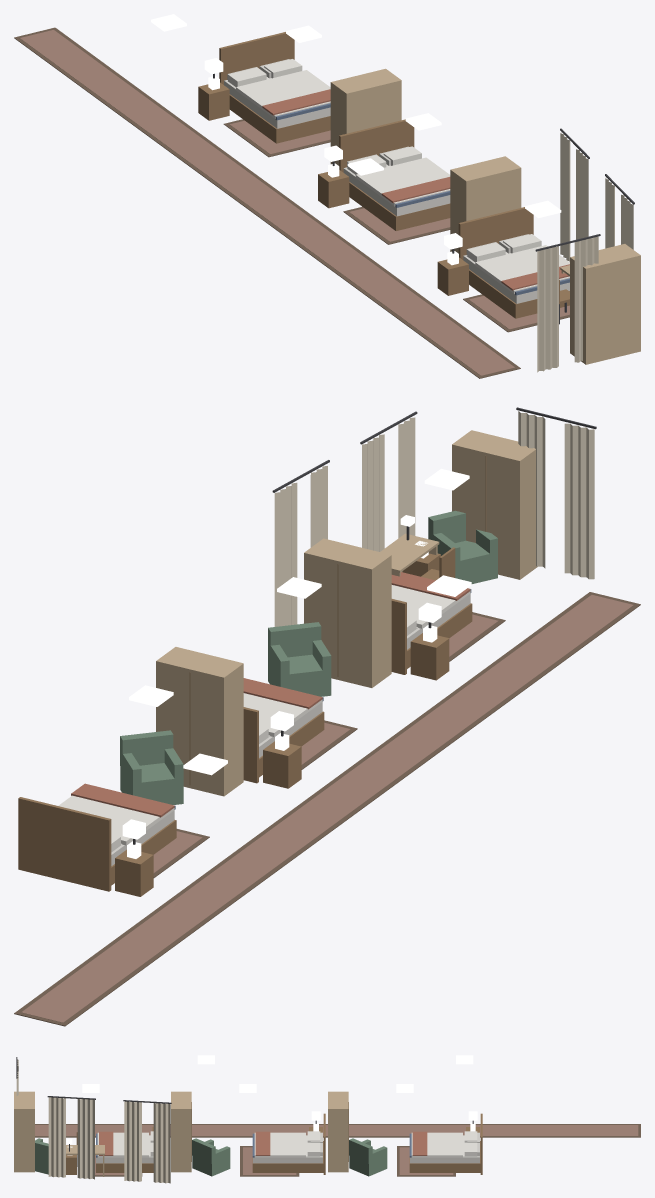
File: fine-s2.glb
3 renders of one model, top to bottom at view 1: azimuth 30°, elevation 25°; view 2: azimuth 150°, elevation 25°; view 3: azimuth 270°, elevation 25°, orthographic. The views are drawn at different scales.
Parts seen in each view (by area): view 1: soft-s2, dresser.005, bed-frame.004, bed-frame.003, bed-frame.005, dresser.003, dresser.004, nightstand.005, nightstand.003, nightstand.004; view 2: soft-s2, dresser.004, dresser.003, dresser.005, bed-frame.003, lounge-chair.004, lounge-chair.003, lounge-chair.005, bed-frame.004, bed-frame.005, nightstand.005, nightstand.003 (+2 smaller); view 3: soft-s2, dresser.003, dresser.004, dresser.005, bed-frame.003, bed-frame.004, lounge-chair.003, lounge-chair.004, bed-frame.005, lounge-chair.005, writing-desk.001, side-table.001.
Part boxes in pixels (x1,y1,x2,y2): soft-s2: (14, 27, 634, 378); dresser.005: (570, 244, 640, 364); bed-frame.004: (339, 119, 450, 230); bed-frame.003: (219, 32, 330, 143); bed-frame.005: (458, 207, 569, 318); dresser.003: (330, 68, 401, 165); dresser.004: (450, 156, 521, 253); nightstand.005: (437, 251, 468, 295); nightstand.003: (198, 76, 229, 120); nightstand.004: (318, 163, 349, 208); soft-s2: (14, 407, 640, 1026); dresser.004: (304, 538, 391, 687); dresser.003: (156, 647, 243, 796); dresser.005: (452, 430, 537, 579); bed-frame.003: (18, 797, 176, 891); lounge-chair.004: (268, 622, 331, 696); lounge-chair.003: (120, 730, 183, 804); lounge-chair.005: (428, 510, 497, 583); bed-frame.004: (243, 697, 324, 783); bed-frame.005: (391, 589, 472, 674); nightstand.005: (410, 625, 449, 680); nightstand.003: (115, 841, 153, 896); soft-s2: (16, 1057, 640, 1183); dresser.003: (328, 1091, 348, 1172); dresser.004: (171, 1091, 191, 1172); dresser.005: (14, 1091, 34, 1172); bed-frame.003: (409, 1113, 482, 1174); bed-frame.004: (252, 1113, 325, 1174); lounge-chair.003: (349, 1138, 387, 1176); lounge-chair.004: (192, 1138, 230, 1176); bed-frame.005: (96, 1133, 153, 1172); lounge-chair.005: (35, 1138, 48, 1174); writing-desk.001: (66, 1138, 104, 1176); side-table.001: (66, 1146, 76, 1174).
Bounding box in the file's own units: 4.13 × 2.61 × 18.03.
